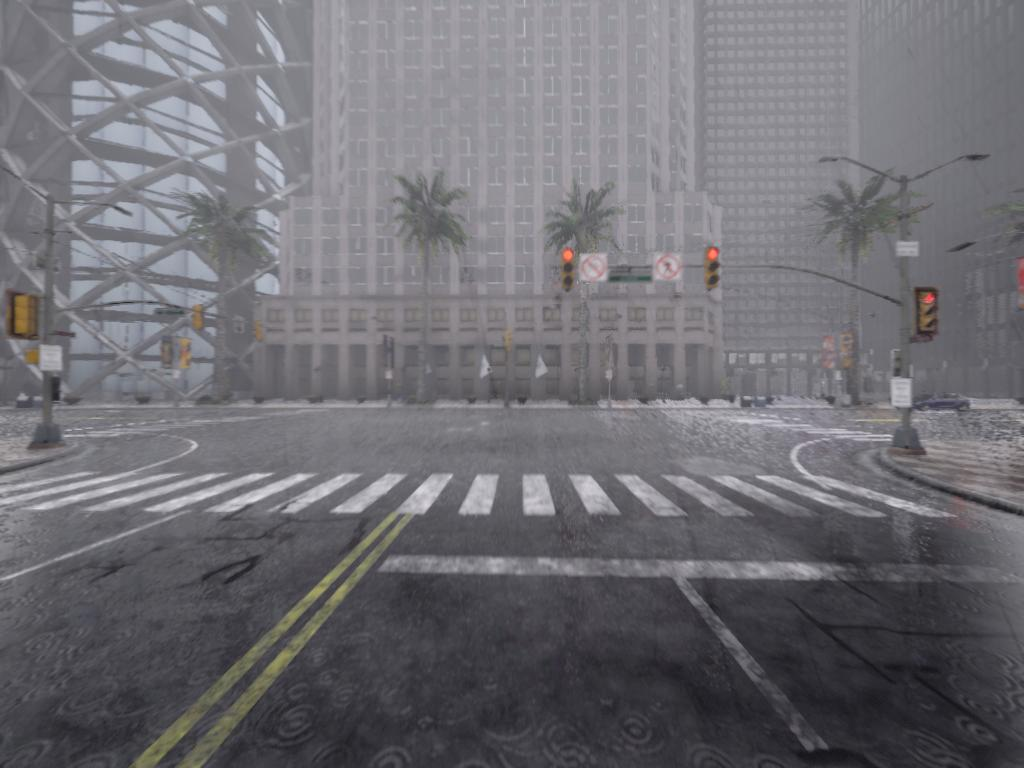traffic_light: (917, 291, 942, 339), (13, 296, 41, 338), (558, 249, 578, 294), (706, 249, 723, 295), (193, 308, 209, 332), (254, 322, 267, 343), (503, 329, 513, 356)
